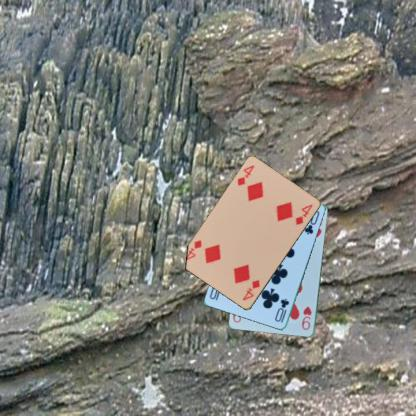10c: (272, 296, 291, 324)
4d: (233, 163, 256, 187), (240, 278, 261, 302)
9h: (299, 303, 313, 331)
